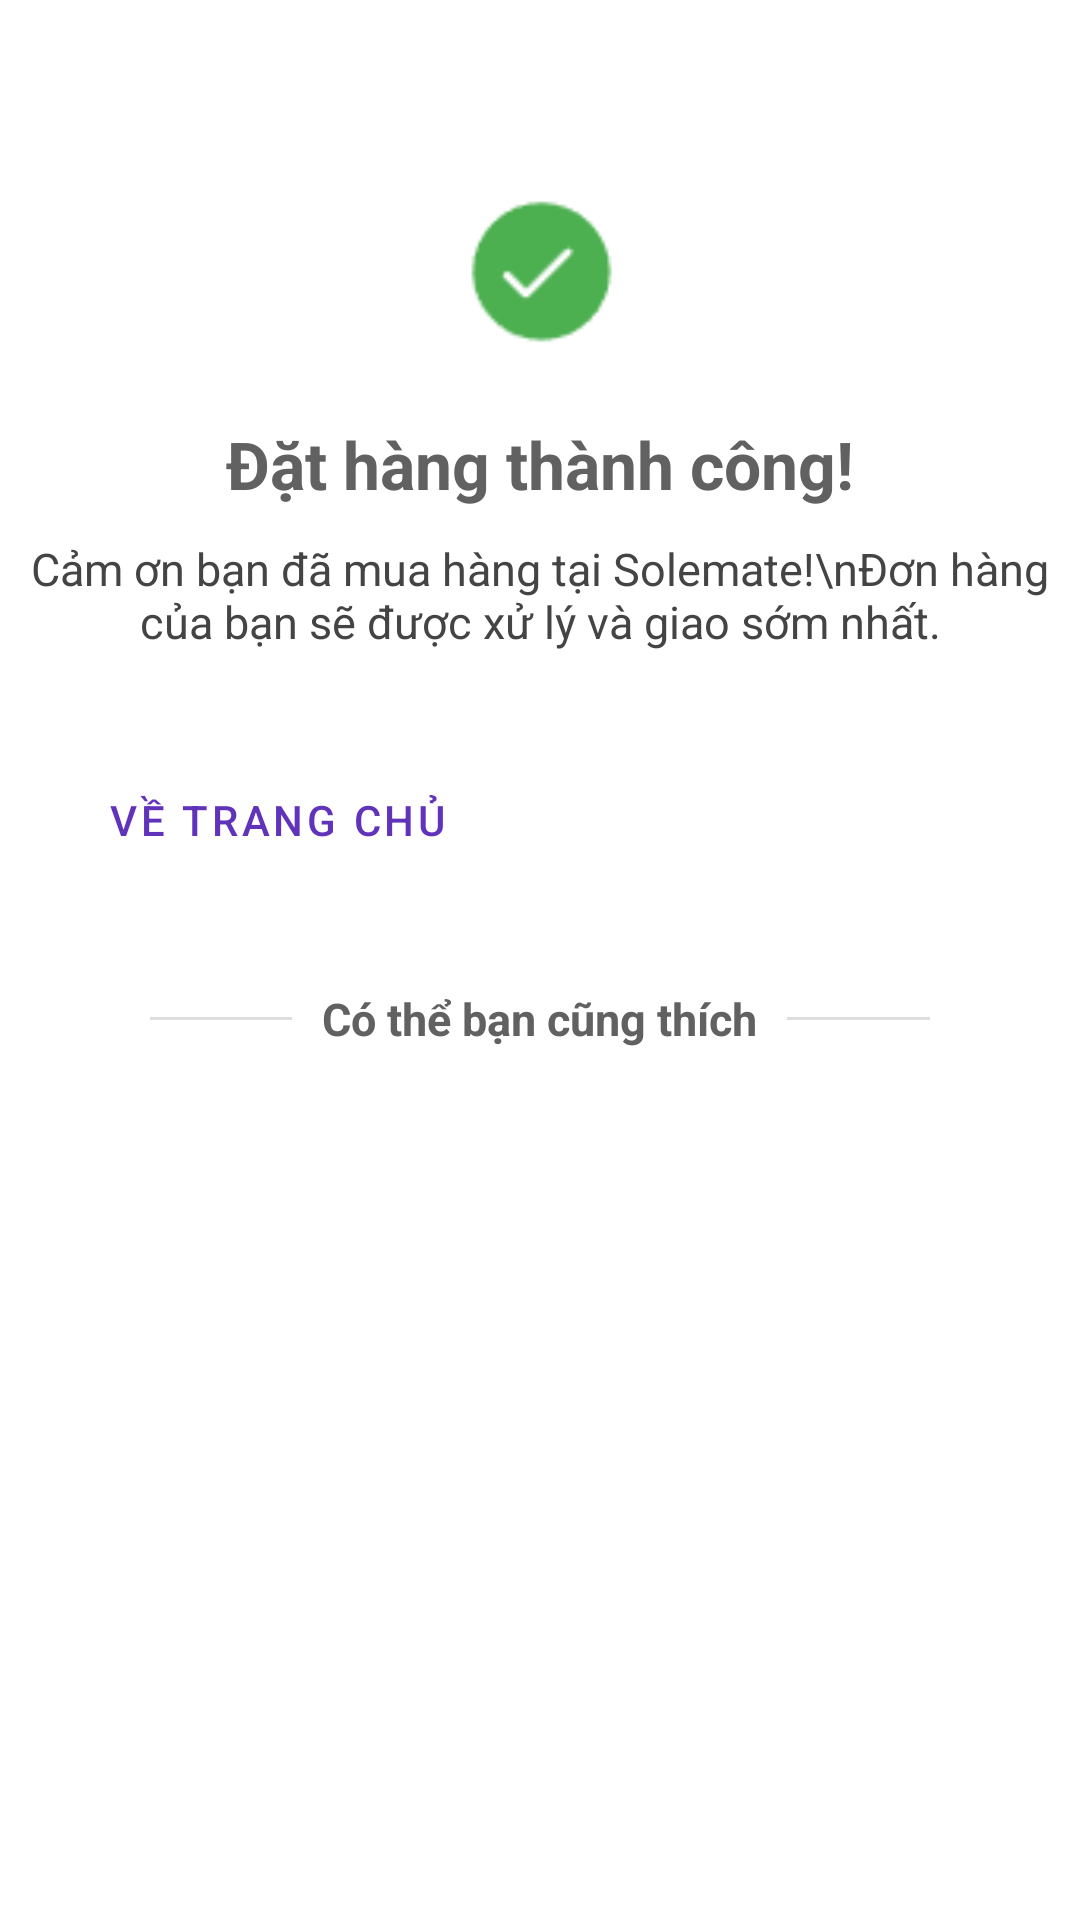

Icons on this 1080*1920 Android screen, each with its box as (x1, y1, x2, y2):
check circle: (471, 201, 612, 342)
